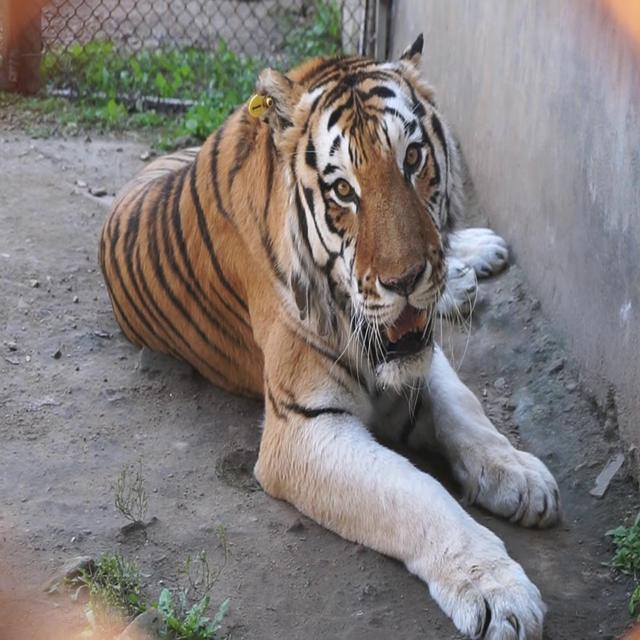tiger: (95, 30, 572, 640)
